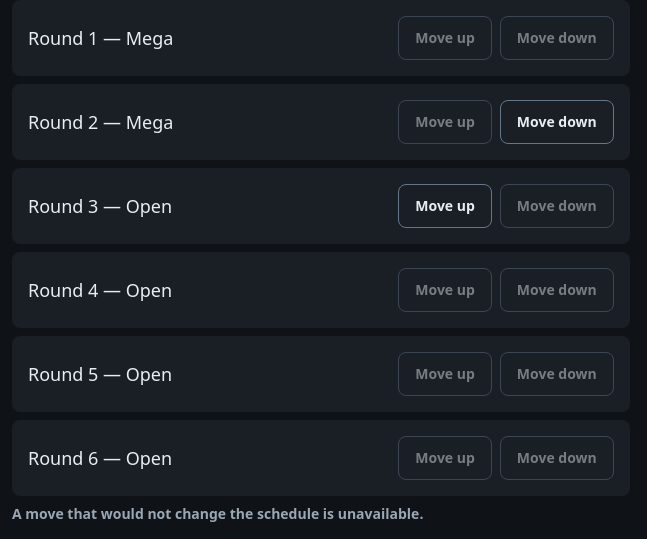
Scenario: after a successful move › puts focus on the same-named button of the destination row
The width and height of the screenshot is (647, 539).
Click the button "Move down" in the row of "Round 2 — Mega" at (557, 122), box [500,100,614,144]
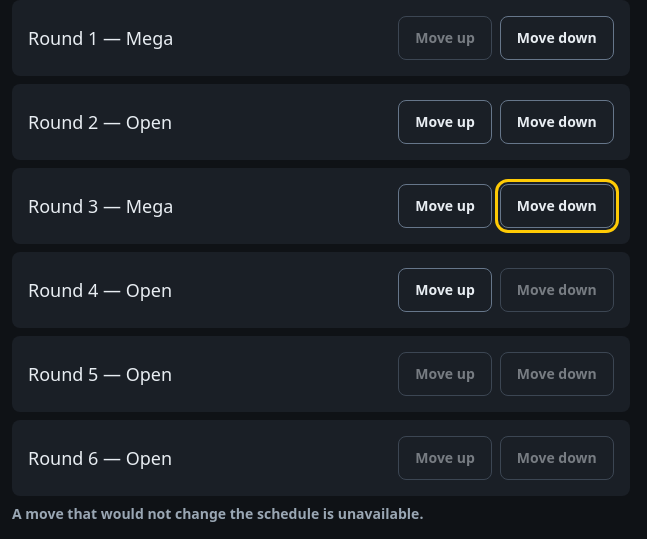
Now the text "Round 3 — Mega" is shown, box [28,192,173,220]
